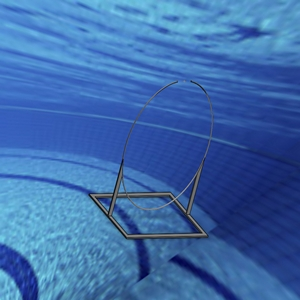circle: (88, 75, 215, 241)
